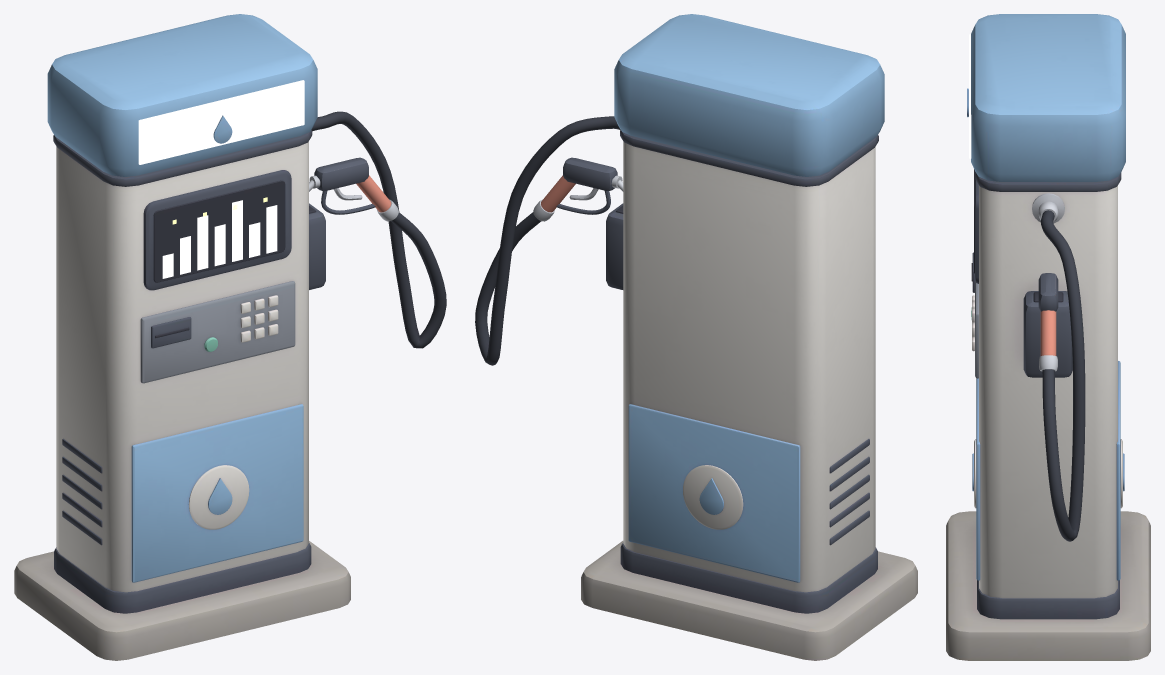
File: gas-pump.glb
3 renders of one model, left to right at view 1: azimuth 30°, elevation 25°; view 2: azimuth 150°, elevation 25°; view 3: azimuth 270°, elevation 25°, orthographic.
Parts seen in each view (by area): view 1: gas-pump_body, gas-pump_lightbox_glow, gas-pump_display_lens, gas-pump_nozzle; view 2: gas-pump_body, gas-pump_nozzle; view 3: gas-pump_body, gas-pump_nozzle.
Part boxes in pixels (x1,y1,x2,y2): gas-pump_body: [14, 14, 446, 660]; gas-pump_lightbox_glow: [138, 80, 304, 164]; gas-pump_display_lens: [162, 197, 277, 278]; gas-pump_nozzle: [309, 157, 398, 221]; gas-pump_body: [475, 14, 917, 660]; gas-pump_nozzle: [533, 157, 623, 221]; gas-pump_body: [946, 14, 1150, 660]; gas-pump_nozzle: [1038, 273, 1058, 371].
Size of the model in its own units: 1.38 by 1.8 by 0.62.
5 materials, 2 textured.
